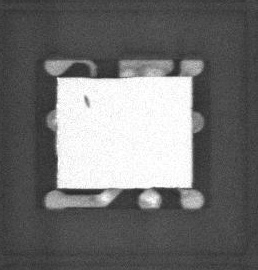DIE_INK: (77, 98, 87, 114)
